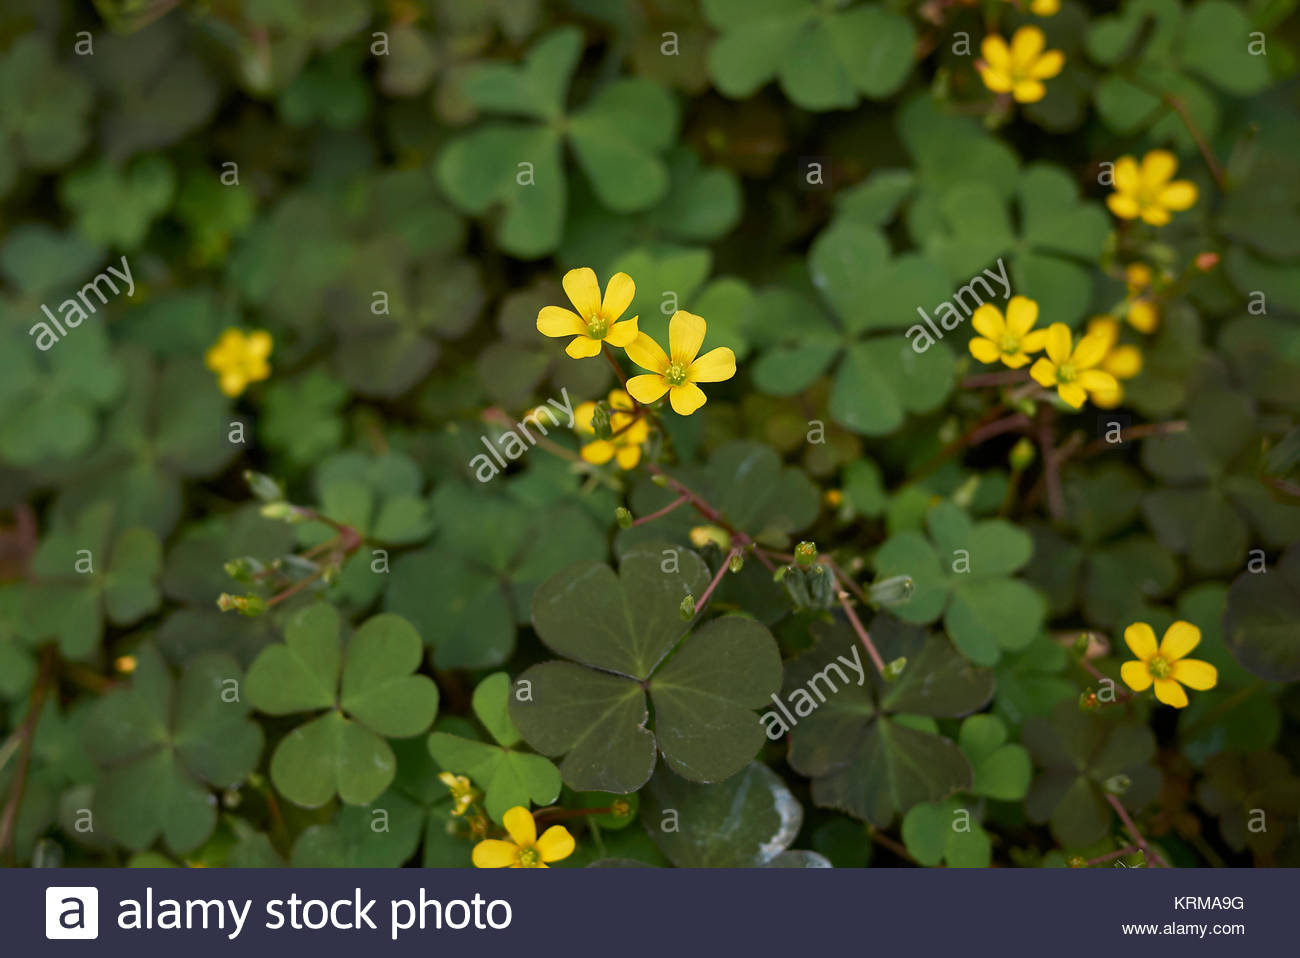oxalis: (96, 283, 963, 837), (380, 13, 1166, 327)
